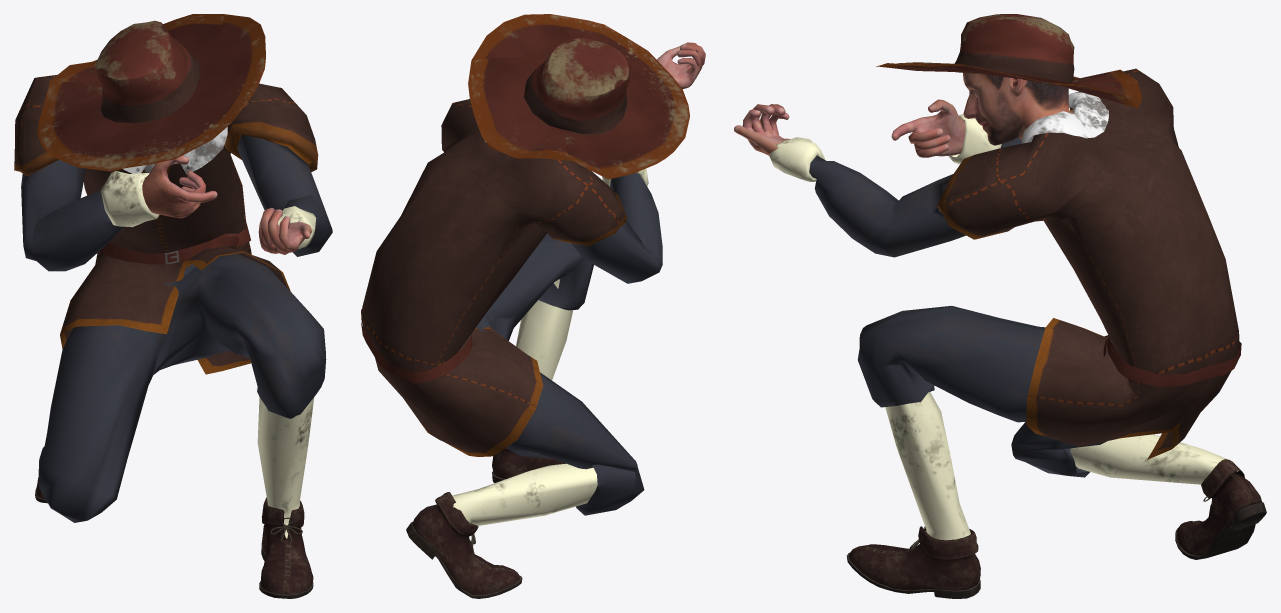
Rendered from CrouchAimSoldierSample.fbx.
3 views of the same model, side by side, from view 1: azimuth 30°, elevation 25°; view 2: azimuth 150°, elevation 25°; view 3: azimuth 270°, elevation 25° (orthographic). The views are drawn at different scales.
Parts seen in each view (by area): view 1: CrouchH1SoldierLOD0; view 2: CrouchH1SoldierLOD0; view 3: CrouchH1SoldierLOD0.
Part boxes in pixels (x1,y1,x2,y2): CrouchH1SoldierLOD0: (14, 14, 332, 598); CrouchH1SoldierLOD0: (361, 14, 705, 598); CrouchH1SoldierLOD0: (734, 14, 1266, 598).
Size of what is drawn, in the model's own units: 63.82 by 119 by 107.
